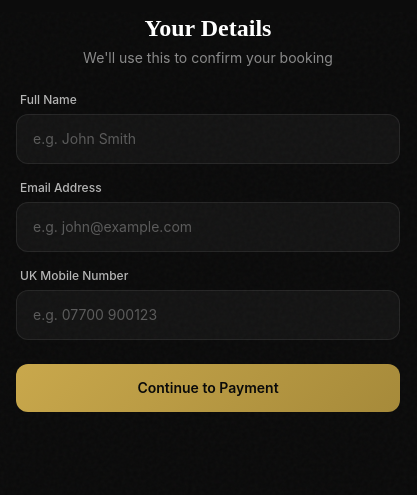
Test case: CustomerForm Component › shows validation errors when attempting to submit an empty form
Click the button "Continue to Payment": [208, 388] box x1=16 y1=364 x2=400 y2=412
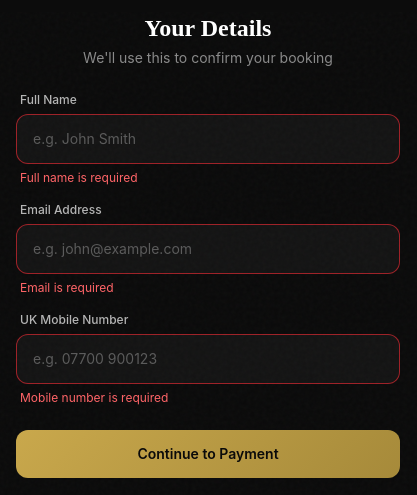
Check: the text "Full name is required" is shown, box x1=20 y1=170 x2=138 y2=185
Check: the text "Email is required" is shown, box x1=20 y1=280 x2=114 y2=295
Check: the text "Mobile number is required" is shown, box x1=20 y1=390 x2=168 y2=405
